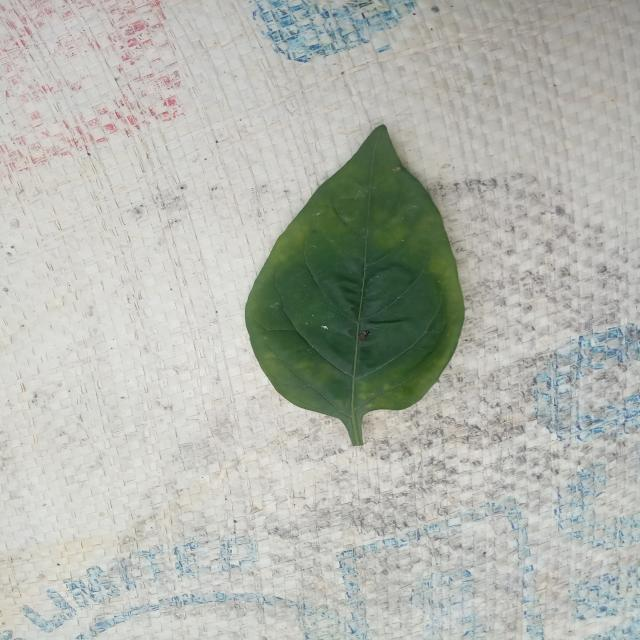ganike: (245, 125, 465, 445)
